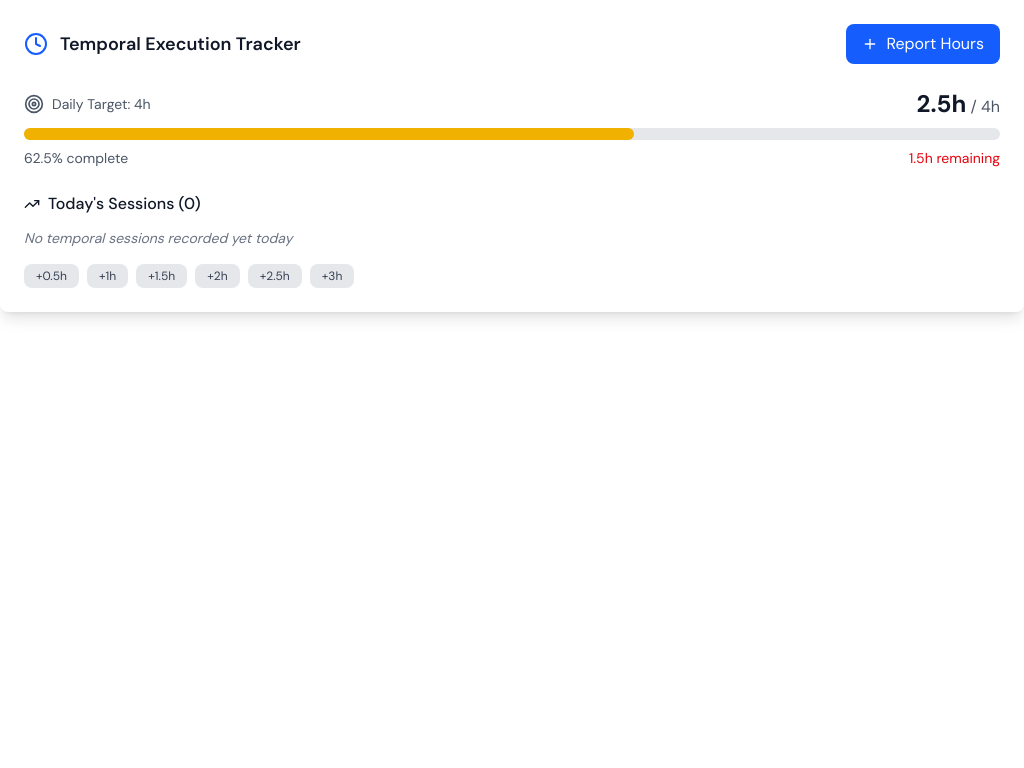
Test: TemporalTracker › should cancel report form
The width and height of the screenshot is (1024, 768).
// Open report form
Click the button "Report Hours".
click(923, 44)  # box left=846, top=24, right=1000, bottom=64
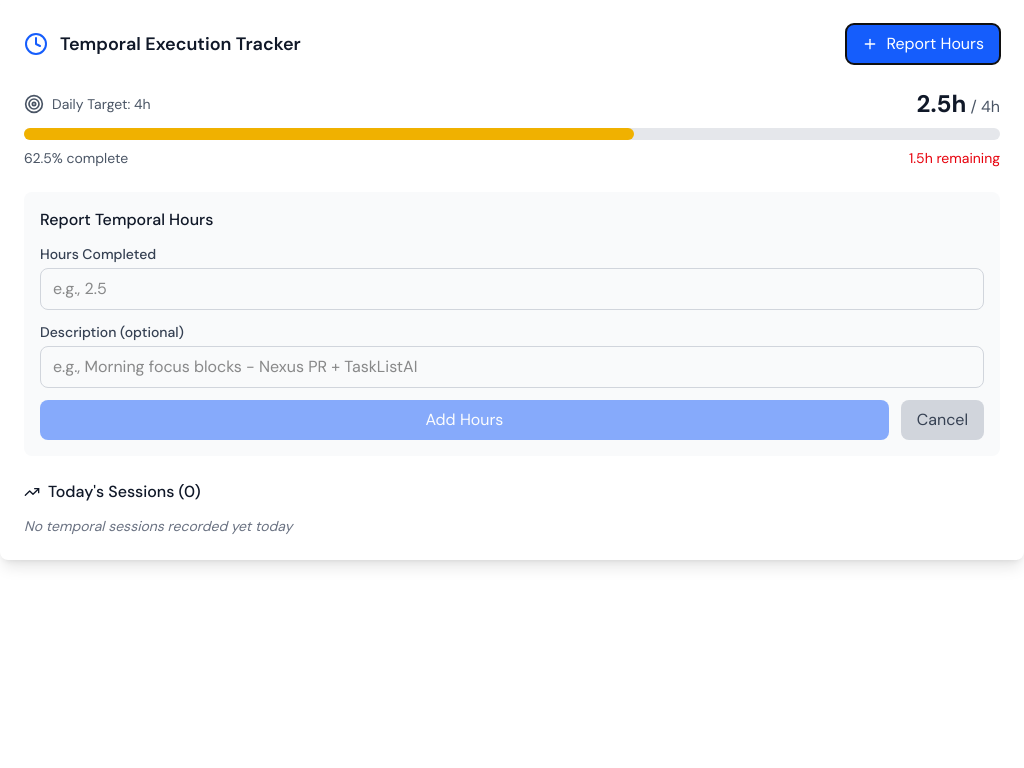
expect the heading "Report Temporal Hours" is shown: met, box left=40, top=209, right=213, bottom=230
// Cancel form
Click the button "Cancel".
click(942, 420)  # box left=901, top=400, right=984, bottom=440
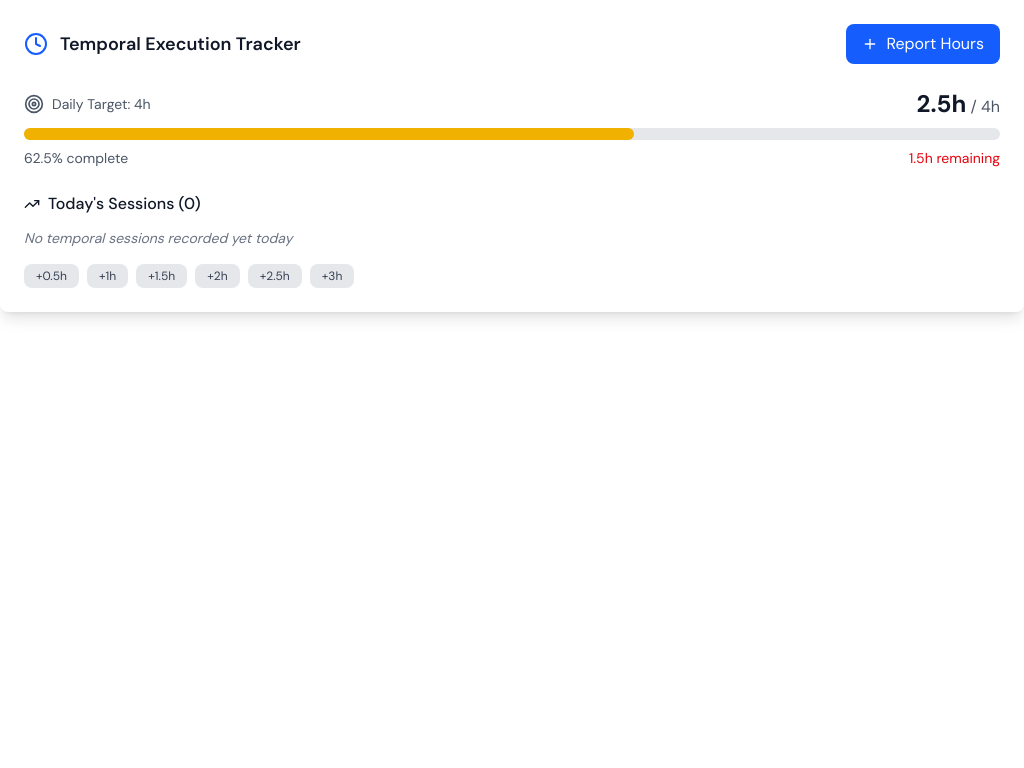
expect the heading "Report Temporal Hours" is gone: met
